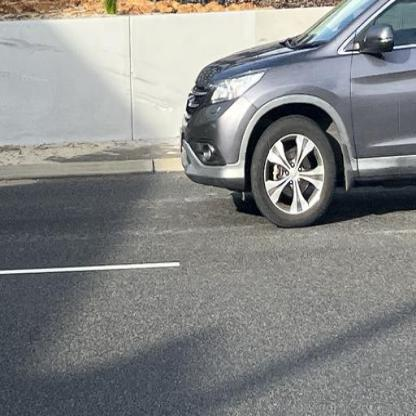Tire: (250, 113, 337, 228)
